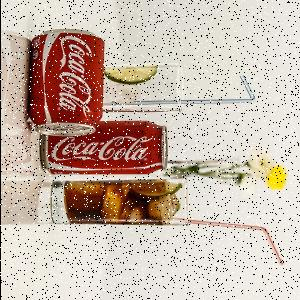Can: (26, 29, 108, 138), (39, 120, 170, 177)
